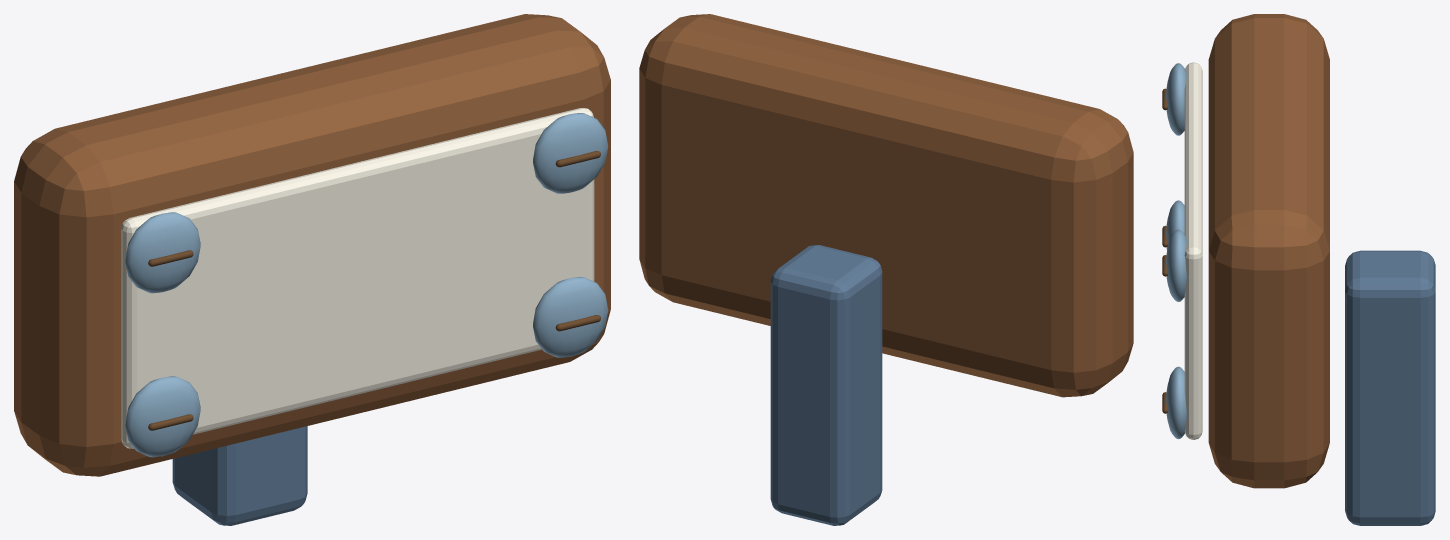
The model's file is label.glb.
3 renders of one model, left to right at view 1: azimuth 30°, elevation 25°; view 2: azimuth 150°, elevation 25°; view 3: azimuth 270°, elevation 25°, orthographic. The views are drawn at different scales.
Visible parts, largest first — view 1: Sign_timber, Sign_cream_face, Clip, Brass_screw, Brass_screw.001, Brass_screw.002, Brass_screw.003; view 2: Sign_timber, Clip; view 3: Sign_timber, Clip, Sign_cream_face, Brass_screw.003, Brass_screw.002, Brass_screw.001, Brass_screw.
Part boxes in pixels (x1=…): Sign_timber: x1=14, y1=14, x2=610, y2=476; Sign_cream_face: x1=121, y1=108, x2=594, y2=448; Clip: x1=172, y1=426, x2=307, y2=525; Brass_screw: x1=125, y1=376, x2=200, y2=457; Brass_screw.001: x1=125, y1=212, x2=200, y2=293; Brass_screw.002: x1=533, y1=277, x2=608, y2=357; Brass_screw.003: x1=533, y1=113, x2=608, y2=193; Sign_timber: x1=639, y1=14, x2=1133, y2=397; Clip: x1=770, y1=245, x2=882, y2=525; Sign_timber: x1=1208, y1=14, x2=1329, y2=488; Clip: x1=1345, y1=250, x2=1435, y2=525; Sign_cream_face: x1=1184, y1=62, x2=1202, y2=439; Brass_screw.003: x1=1166, y1=229, x2=1186, y2=301; Brass_screw.002: x1=1166, y1=366, x2=1186, y2=439; Brass_screw.001: x1=1166, y1=63, x2=1186, y2=135; Brass_screw: x1=1166, y1=200, x2=1184, y2=250.
Bounding box in the file's own units: 0.18 × 0.145 × 0.0904.
